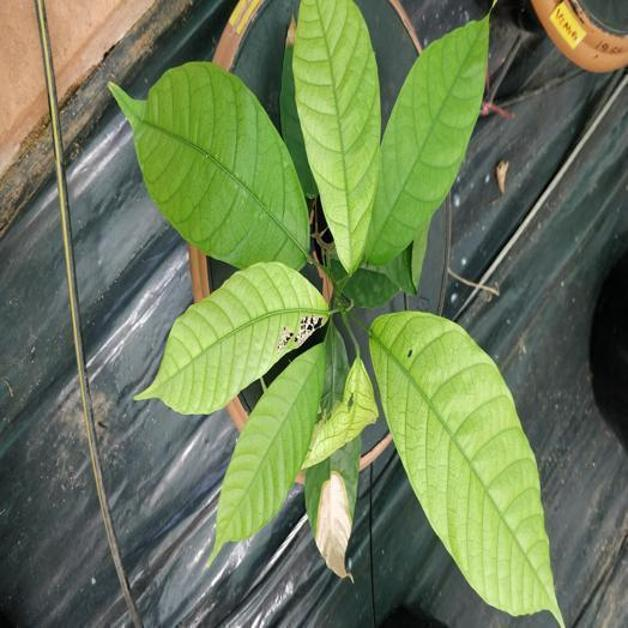Iron: (370, 313, 563, 627), (111, 63, 308, 268), (367, 14, 487, 264), (136, 262, 328, 413), (210, 344, 322, 563), (293, 0, 380, 271), (303, 329, 376, 578)
